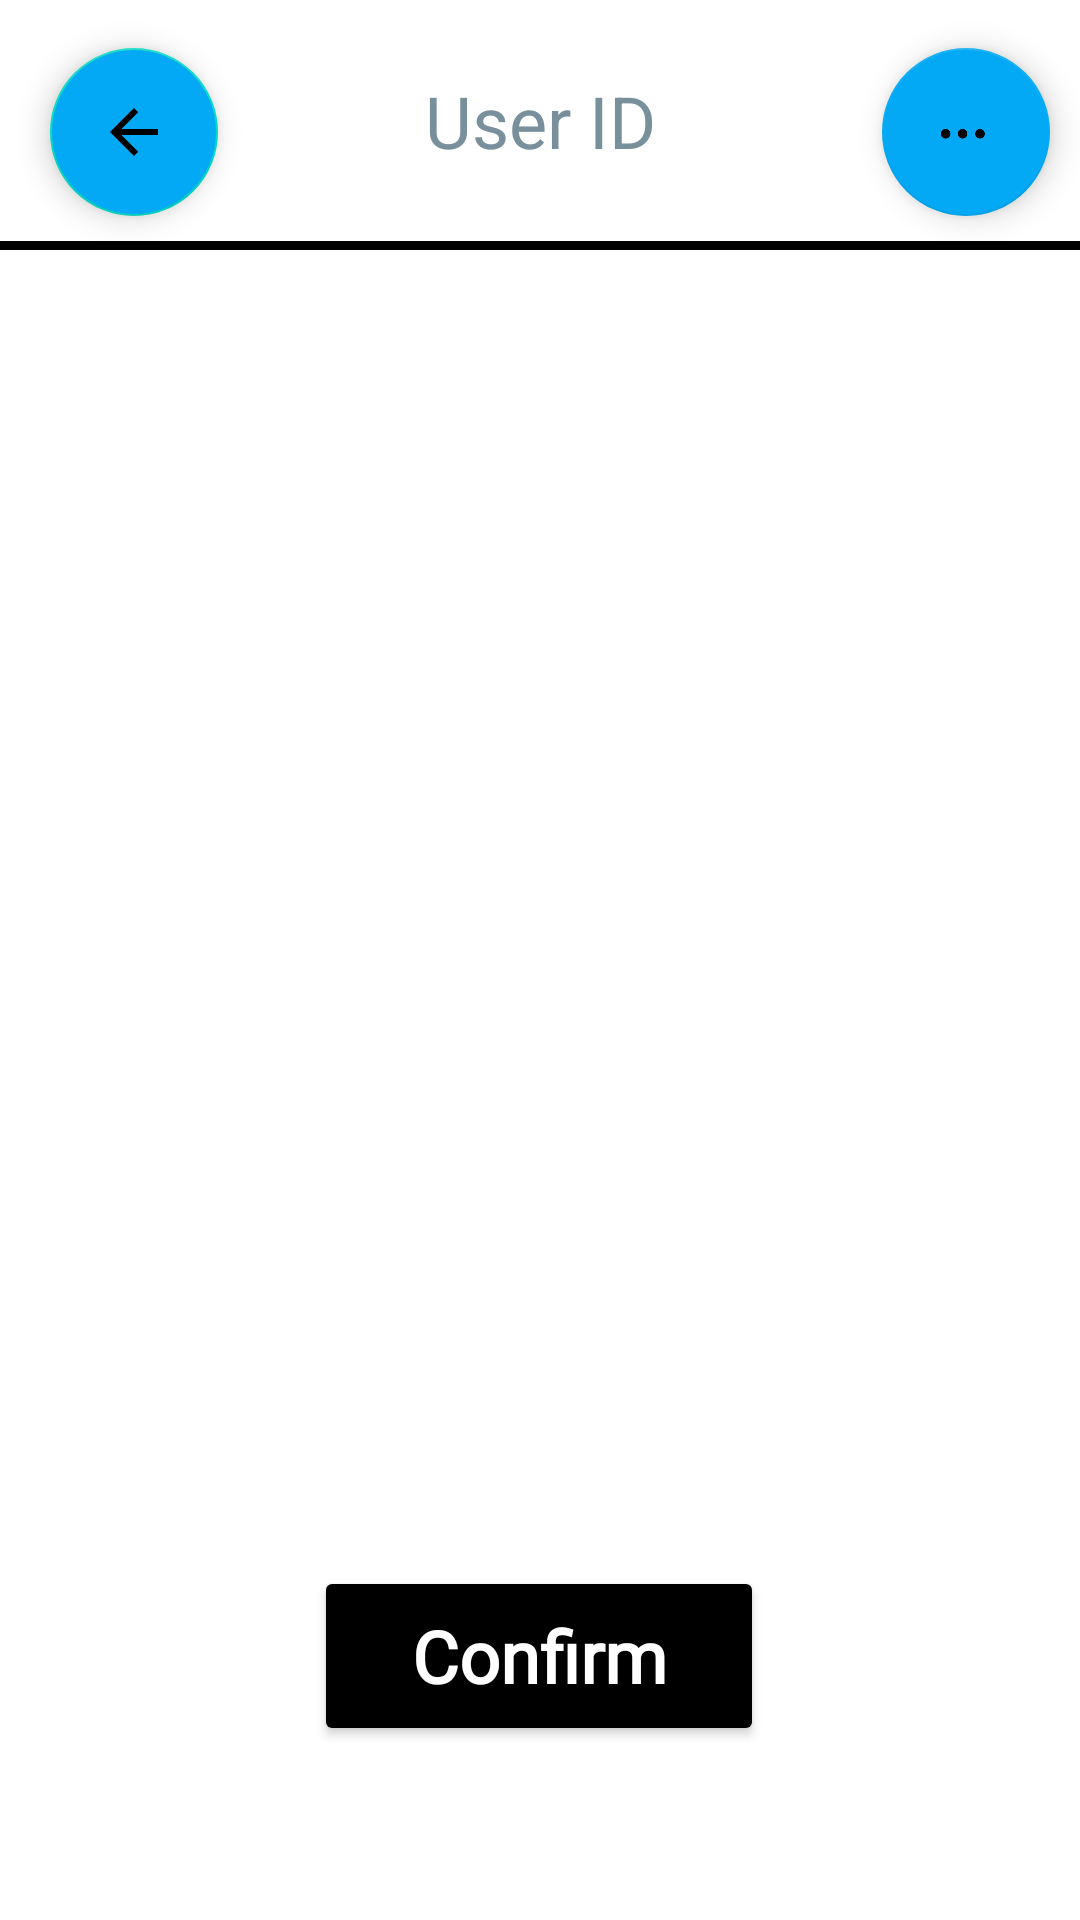

Where to tap for icons on this 1080px×1920px app screen, as (x=x, y=y):
threedots: (x=966, y=132)
